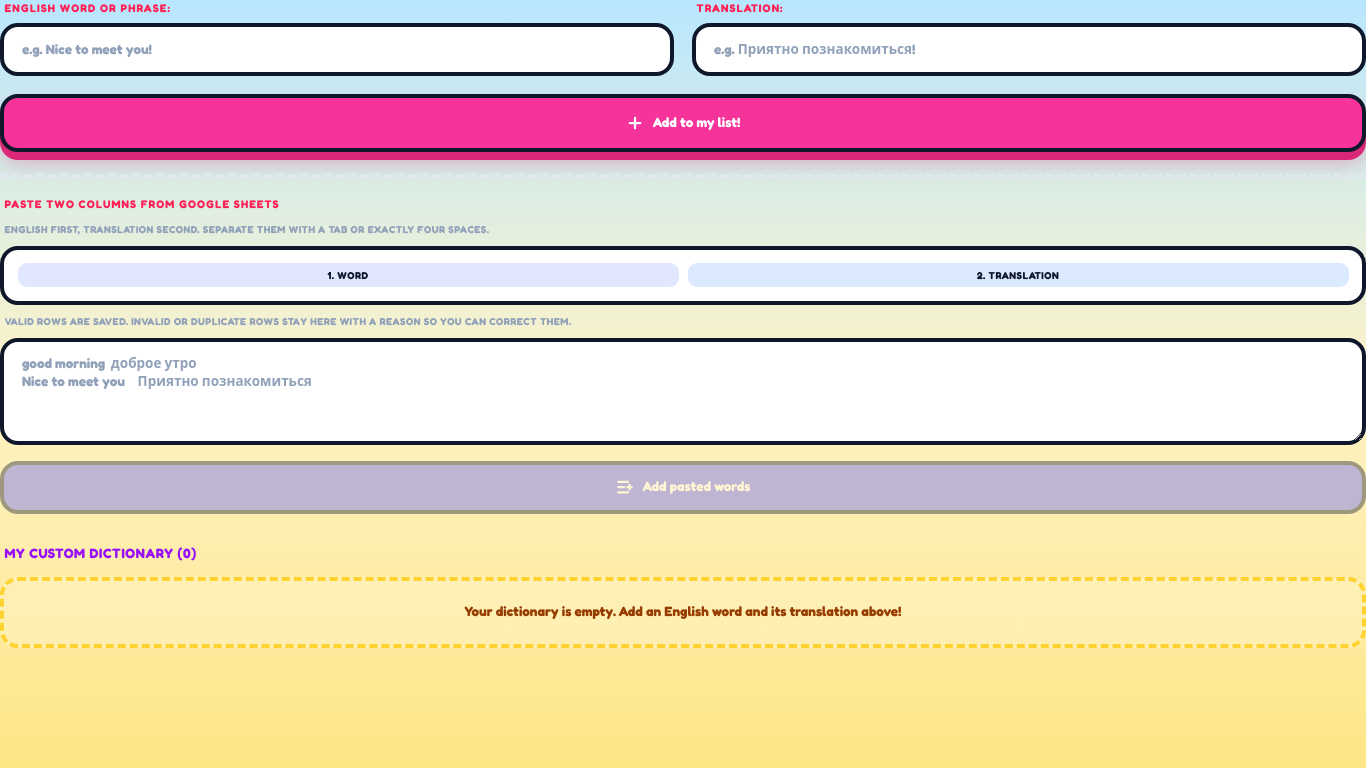
CustomWordsManager paste import › keeps invalid text and explains that one to three spaces are not enough
Replace the text in the text box with id "input-custom-bulk-words" with "no ordinary space separator" at (683, 391), box [0,338,1365,445]
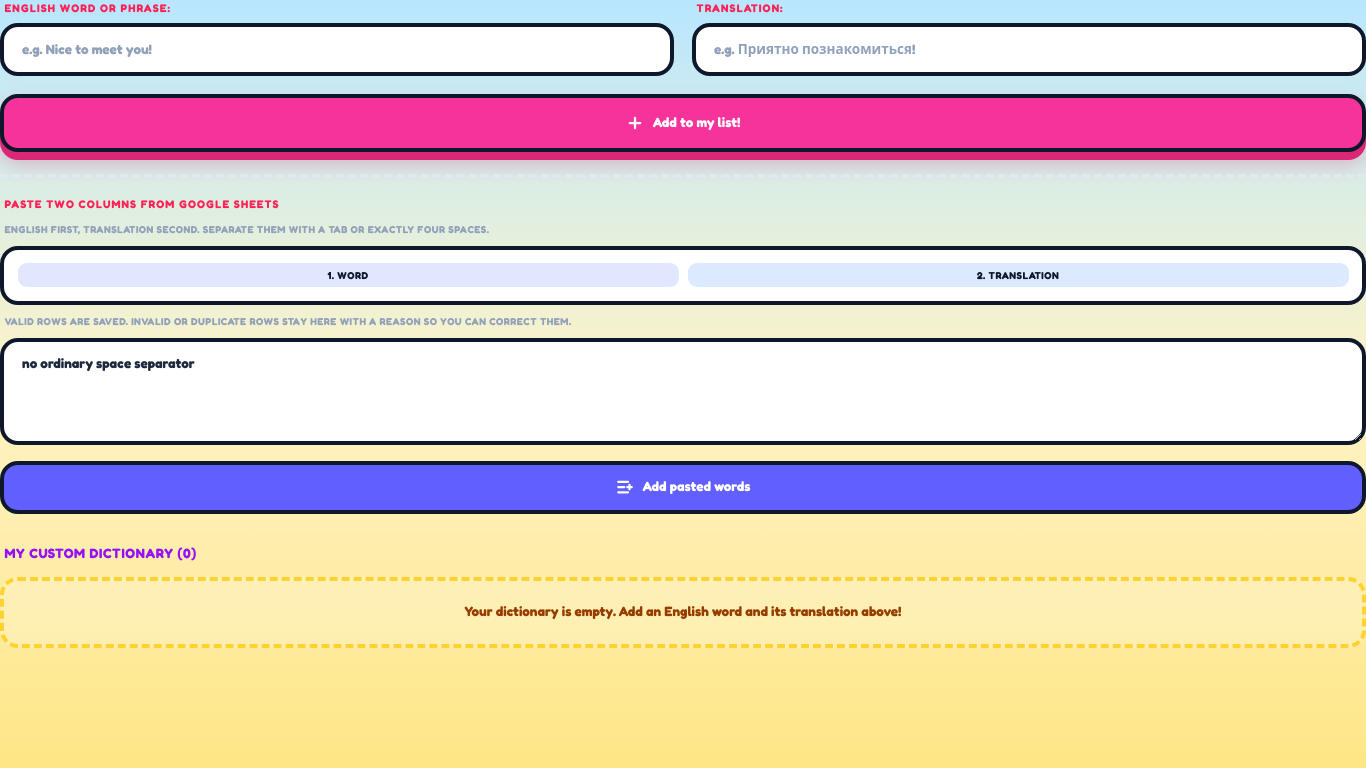
Click the button with id "btn-import-custom-words".
click(683, 487)  # box [0,461,1365,514]
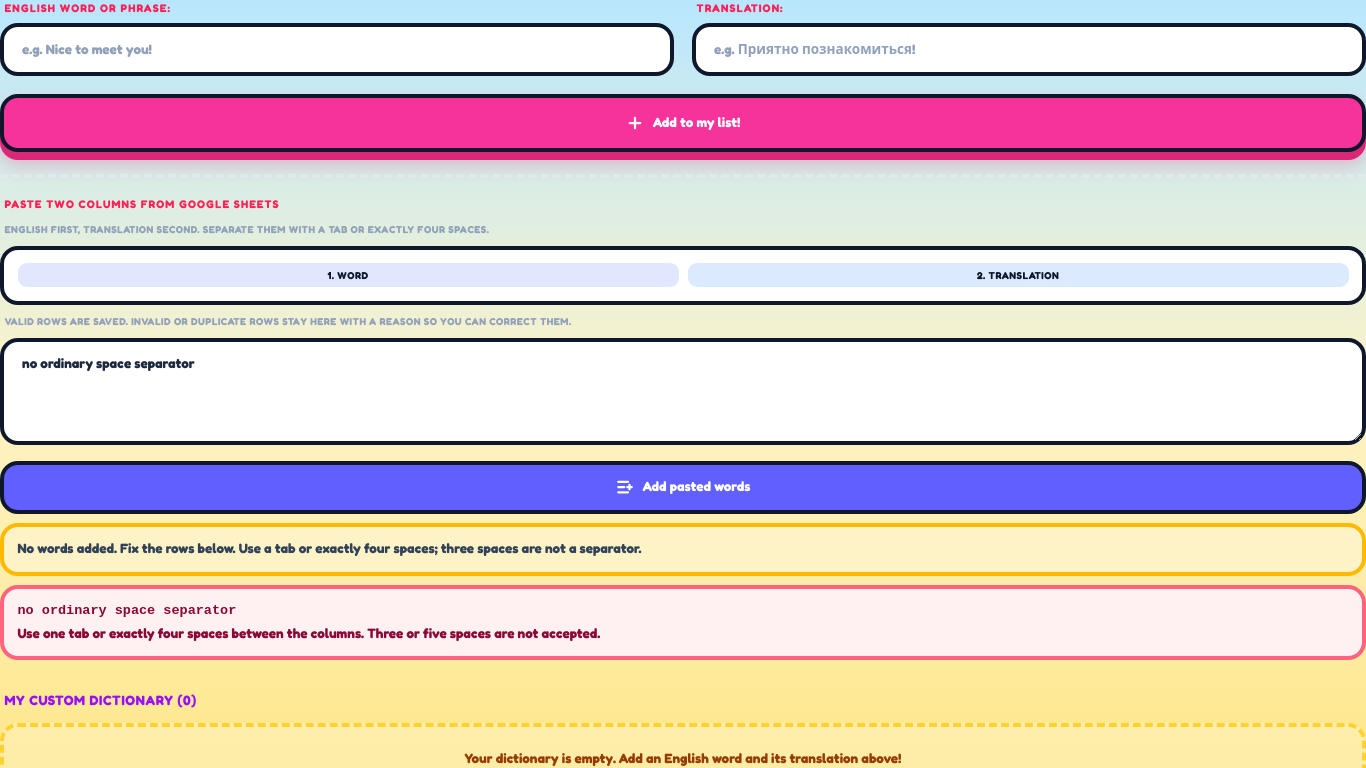
Now the text "three spaces are not a separator" is shown, box [18,540,642,556]
Now the text "exactly four spaces between the columns" is shown, box [18,625,600,641]
